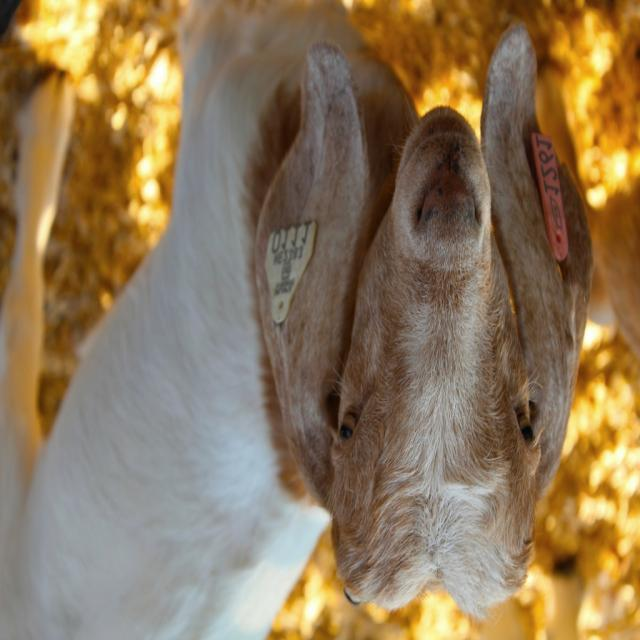Goat: (1, 2, 595, 640)
